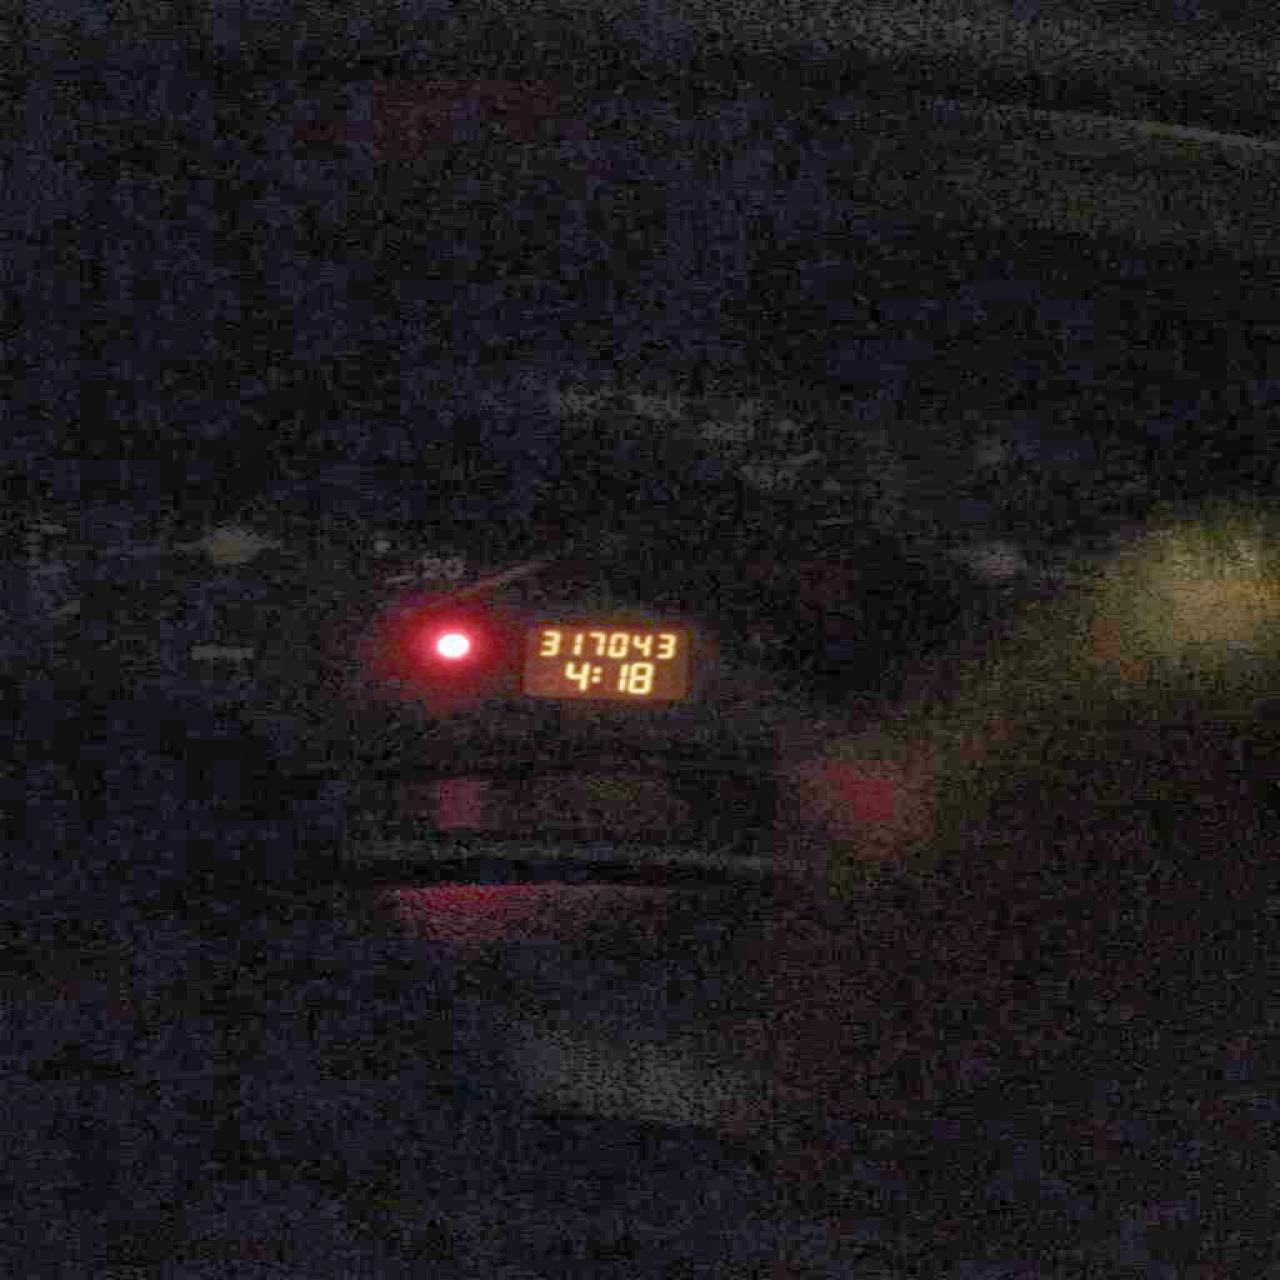0: (607, 631, 628, 658)
1: (611, 660, 627, 693), (568, 629, 584, 655)
3: (537, 627, 561, 656), (653, 629, 676, 660)
4: (558, 659, 588, 693), (628, 633, 652, 656)
7: (586, 629, 606, 655)
8: (627, 660, 653, 694)
X: (588, 663, 601, 685)
odometer: (513, 618, 699, 707)
